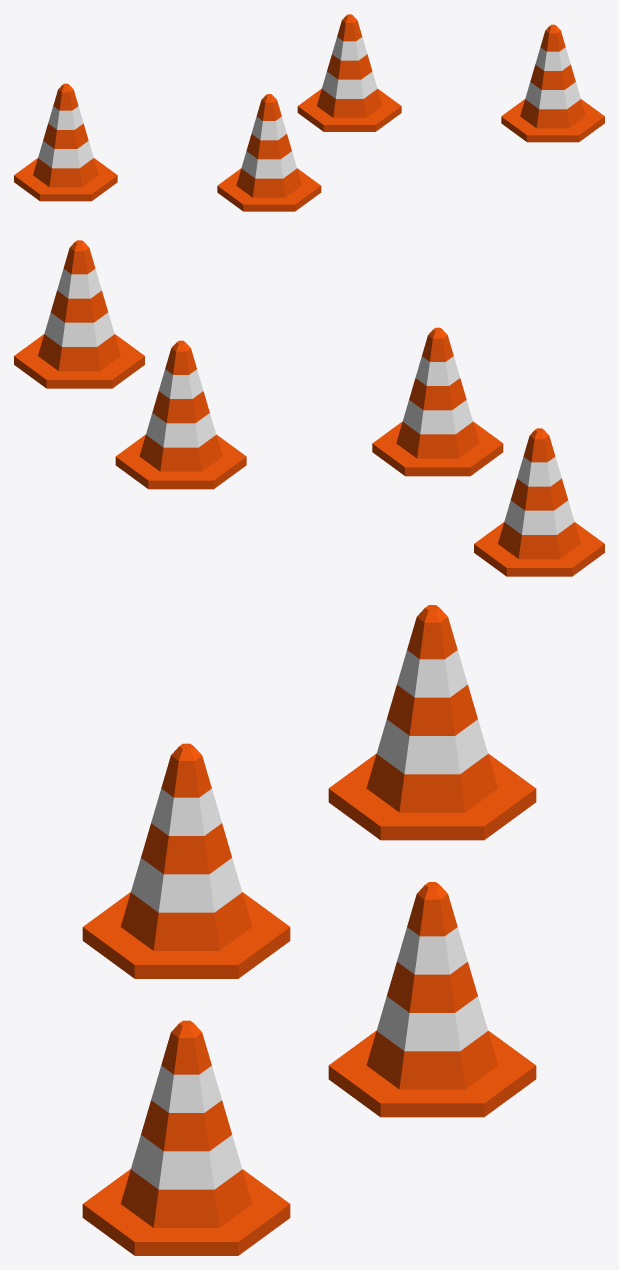
Rendered from cons4.fbx.
3 renders of one model, top to bottom at view 1: azimuth 30°, elevation 25°; view 2: azimuth 150°, elevation 25°; view 3: azimuth 270°, elevation 25°, orthographic. The views are drawn at different scales.
Visible parts, largest first — view 1: Cylinder.002, Cylinder.001, Cylinder.004, Cylinder.003; view 2: Cylinder.004, Cylinder.003, Cylinder.002, Cylinder.001; view 3: Cylinder.002, Cylinder.003, Cylinder.004, Cylinder.001.
Boxes of the visible parts, x1,y1,x2,y2 form: Cylinder.002: (14, 83, 117, 201); Cylinder.001: (501, 24, 604, 142); Cylinder.004: (217, 94, 321, 211); Cylinder.003: (297, 14, 401, 131); Cylinder.004: (372, 327, 503, 476); Cylinder.003: (115, 340, 246, 489); Cylinder.002: (474, 428, 604, 576); Cylinder.001: (14, 240, 144, 388); Cylinder.002: (328, 605, 536, 840); Cylinder.003: (328, 882, 536, 1117); Cylinder.004: (82, 743, 290, 978); Cylinder.001: (82, 1020, 290, 1255).
Bounding box in the file's own units: 1.42 × 0.262 × 0.5534.
